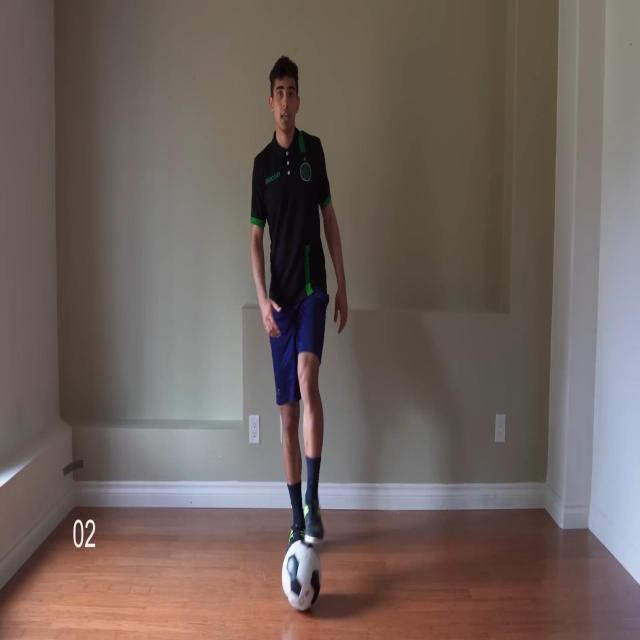Soccer Ball: (282, 536, 322, 612)
